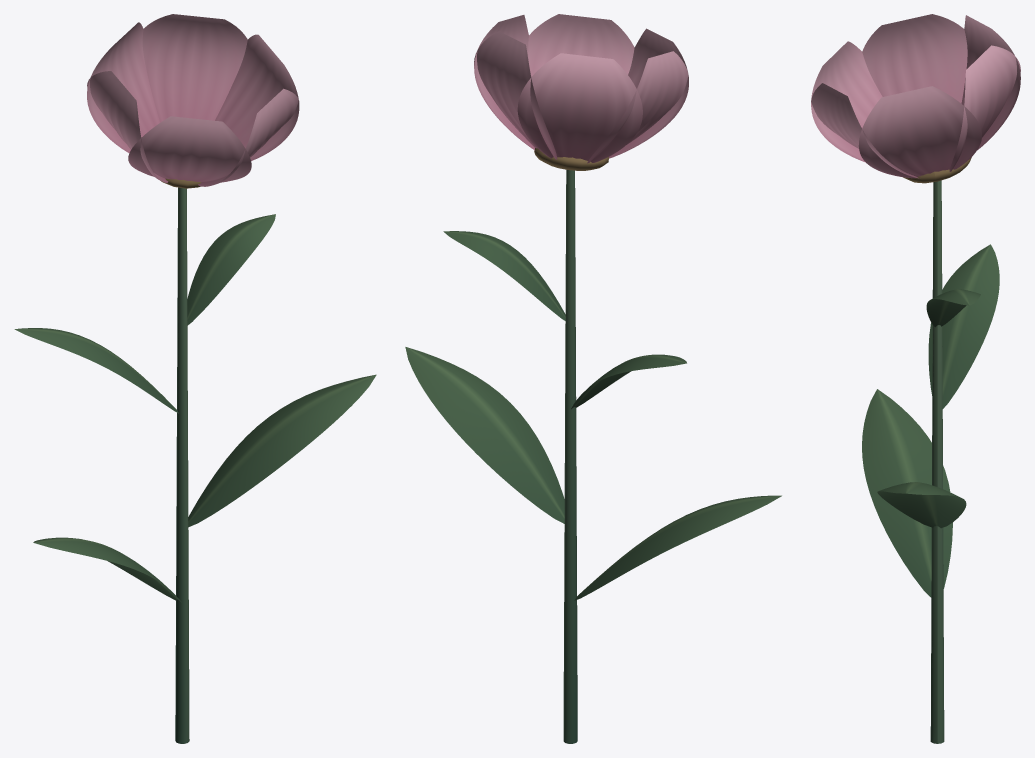
Rendered from tulip.glb.
3 renders of one model, left to right at view 1: azimuth 30°, elevation 25°; view 2: azimuth 150°, elevation 25°; view 3: azimuth 270°, elevation 25°, orthographic.
Visible parts, largest first — view 1: Petal_0_05, Leaf_Lower_Right, Stem, Petal_0_02, Petal_0_00, Leaf_Upper_Right, Petal_0_04, Petal_0_03, Leaf_Upper_Left, Leaf_Lower_Left, Petal_0_01; view 2: Leaf_Lower_Right, Petal_0_04, Stem, Petal_0_01, Leaf_Lower_Left, Petal_0_05, Petal_0_03, Leaf_Upper_Right, Petal_0_02, Petal_0_00, Leaf_Upper_Left, Receptacle; view 3: Leaf_Lower_Left, Petal_0_00, Petal_0_03, Stem, Leaf_Upper_Left, Petal_0_05, Petal_0_02, Leaf_Lower_Right, Petal_0_01, Petal_0_04, Leaf_Upper_Right, Receptacle.
Boxes of the visible parts, x1,y1,x2,y2 form: Petal_0_05: (142,14,247,122); Leaf_Lower_Right: (188,374,376,527); Stem: (175,187,189,743); Petal_0_02: (128,116,251,182); Petal_0_00: (215,34,299,160); Leaf_Upper_Right: (187,214,275,325); Petal_0_04: (87,22,160,152); Petal_0_03: (87,71,168,182); Leaf_Upper_Left: (14,328,178,413); Leaf_Lower_Left: (33,537,181,602); Petal_0_01: (198,88,299,186); Leaf_Lower_Right: (405,347,564,523); Petal_0_04: (517,53,642,162); Stem: (563,170,577,743); Petal_0_01: (528,14,634,76); Leaf_Lower_Left: (574,495,781,600); Petal_0_05: (474,31,557,159); Petal_0_03: (587,51,688,163); Leaf_Upper_Right: (443,231,565,321); Petal_0_02: (609,28,688,158); Petal_0_00: (474,15,534,150); Leaf_Upper_Left: (571,354,686,409); Receptacle: (534,148,608,170); Leaf_Lower_Left: (862,389,952,597); Petal_0_00: (858,86,981,178); Petal_0_03: (862,14,967,103); Stem: (930,180,944,743); Leaf_Upper_Left: (928,244,999,408); Petal_0_05: (949,45,1020,171); Petal_0_02: (811,41,882,162); Leaf_Lower_Right: (877,482,966,528); Petal_0_01: (811,83,918,178); Petal_0_04: (961,15,1020,150); Leaf_Upper_Right: (926,289,980,327); Receptacle: (903,157,971,183).
Size of the model in its own units: 1.8 by 3.38 by 0.914.
